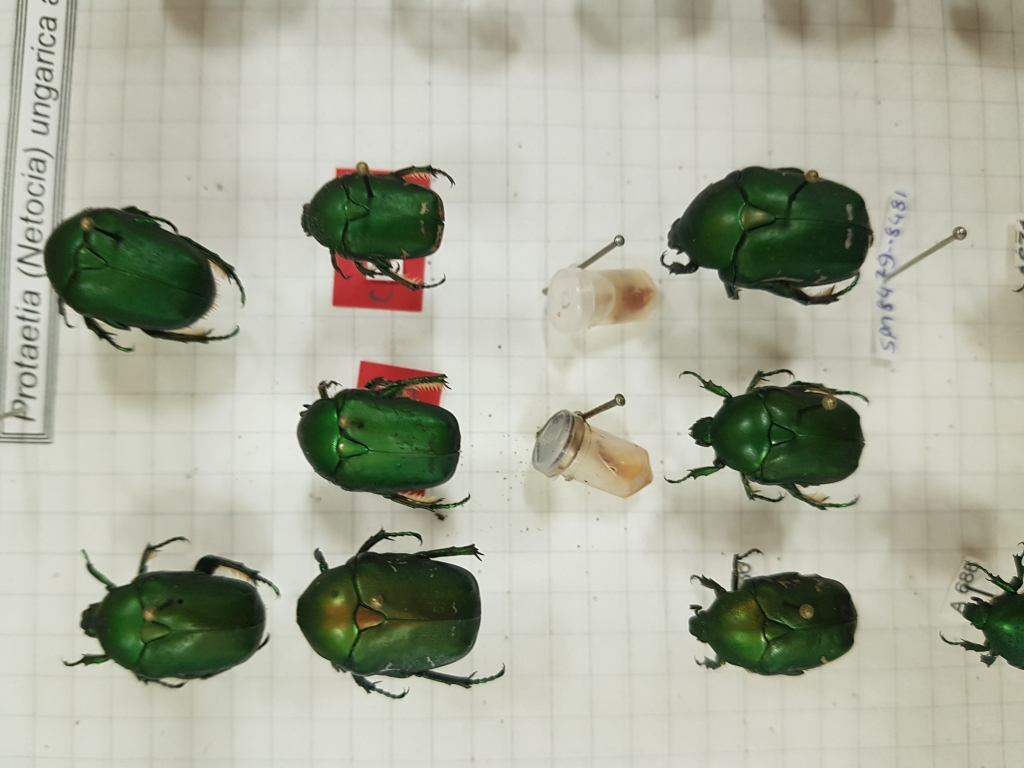Protaetia_ungarica_americana: (58, 522, 285, 706), (293, 522, 513, 705), (36, 179, 257, 358), (654, 358, 878, 526), (290, 353, 496, 525), (663, 153, 884, 308), (293, 138, 465, 306), (684, 544, 860, 683)
